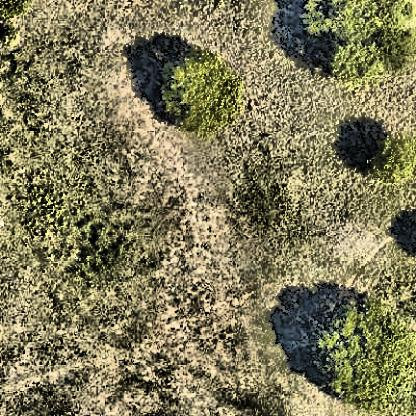tree-top: (311, 296, 416, 409), (300, 1, 416, 84), (159, 45, 245, 135), (364, 131, 416, 184), (1, 1, 34, 21)
